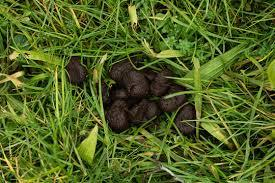Elk: (103, 61, 189, 123)
